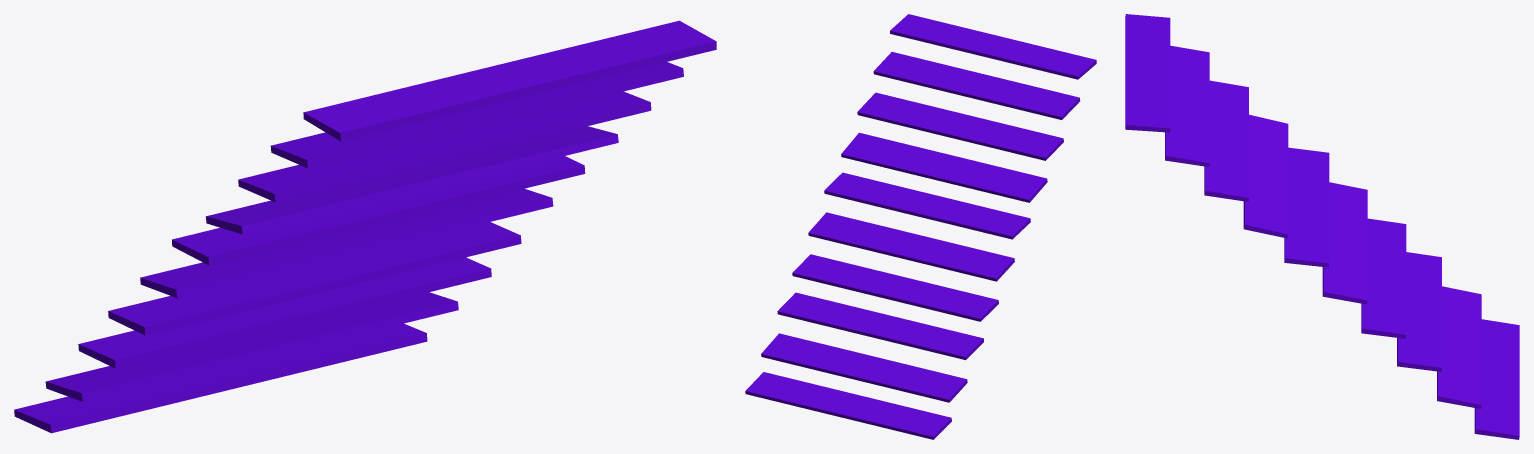
Rendered from Stone_Stairs_B.fbx.
3 renders of one model, left to right at view 1: azimuth 30°, elevation 25°; view 2: azimuth 150°, elevation 25°; view 3: azimuth 270°, elevation 25°, orthographic. The views are drawn at different scales.
Parts seen in each view (by area): view 1: Stone_Stairs_B; view 2: Stone_Stairs_B; view 3: Stone_Stairs_B.
Boxes of the visible parts, <box> form: Stone_Stairs_B: <box>14,20,716,433</box>; Stone_Stairs_B: <box>745,14,1096,439</box>; Stone_Stairs_B: <box>1125,14,1519,439</box>.
Bounding box in the file's own units: 198 × 263 × 298.
